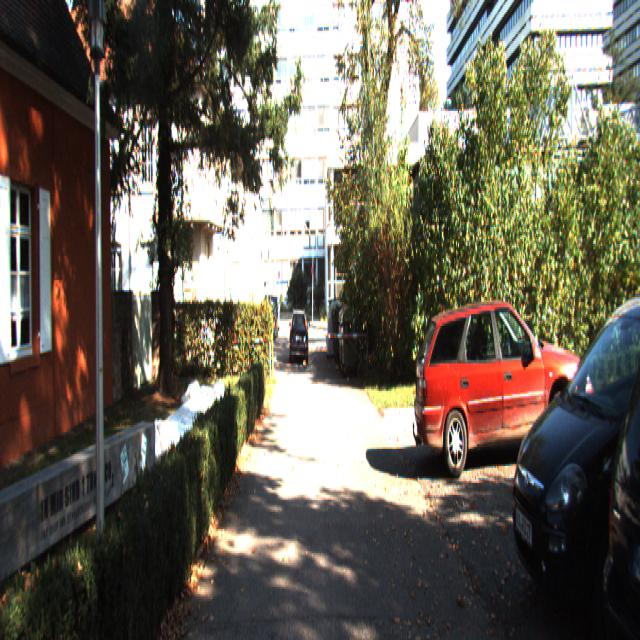Car: (506, 276, 640, 638), (413, 294, 594, 483), (601, 306, 639, 638), (290, 310, 309, 366), (259, 298, 277, 340)
